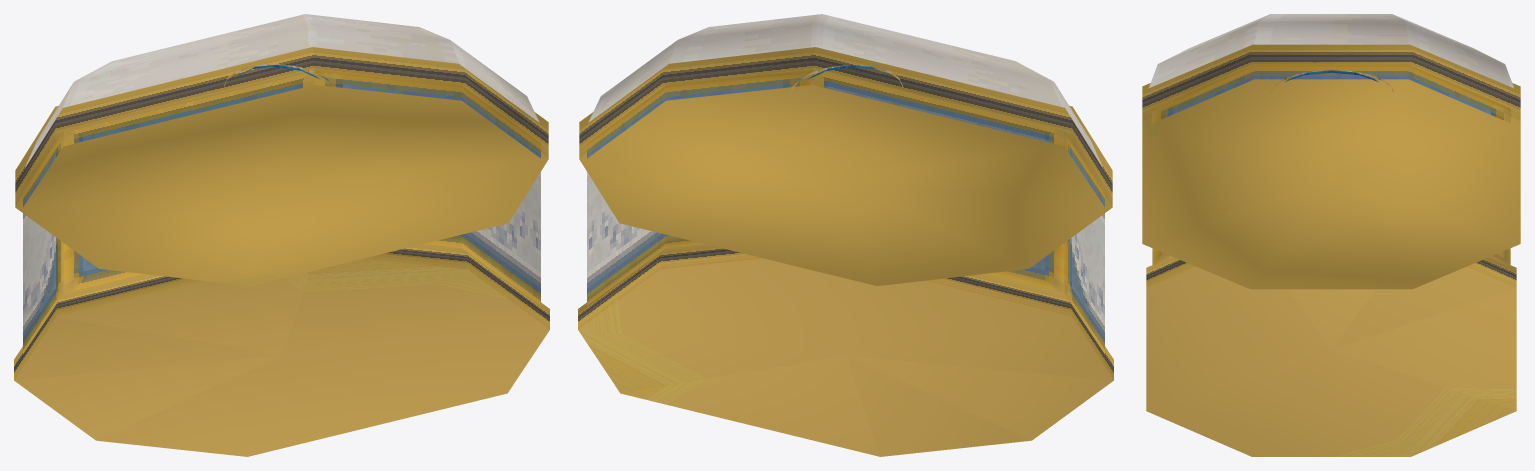
File: ps2_save-icons_pandora.glb
3 renders of one model, left to right at view 1: azimuth 30°, elevation 25°; view 2: azimuth 150°, elevation 25°; view 3: azimuth 270°, elevation 25°, orthographic. The views are drawn at different scales.
Parts seen in each view (by area): view 1: SAVE.ICO; view 2: SAVE.ICO; view 3: SAVE.ICO.
Part boxes in pixels (left/top/right/bottom): SAVE.ICO: left=14, top=14, right=549, bottom=456; SAVE.ICO: left=578, top=14, right=1113, bottom=456; SAVE.ICO: left=1142, top=14, right=1520, bottom=456.
Size of the model in its own units: 2.16 by 1.25 by 1.61.
Materials: 1 (1 with a texture image).
